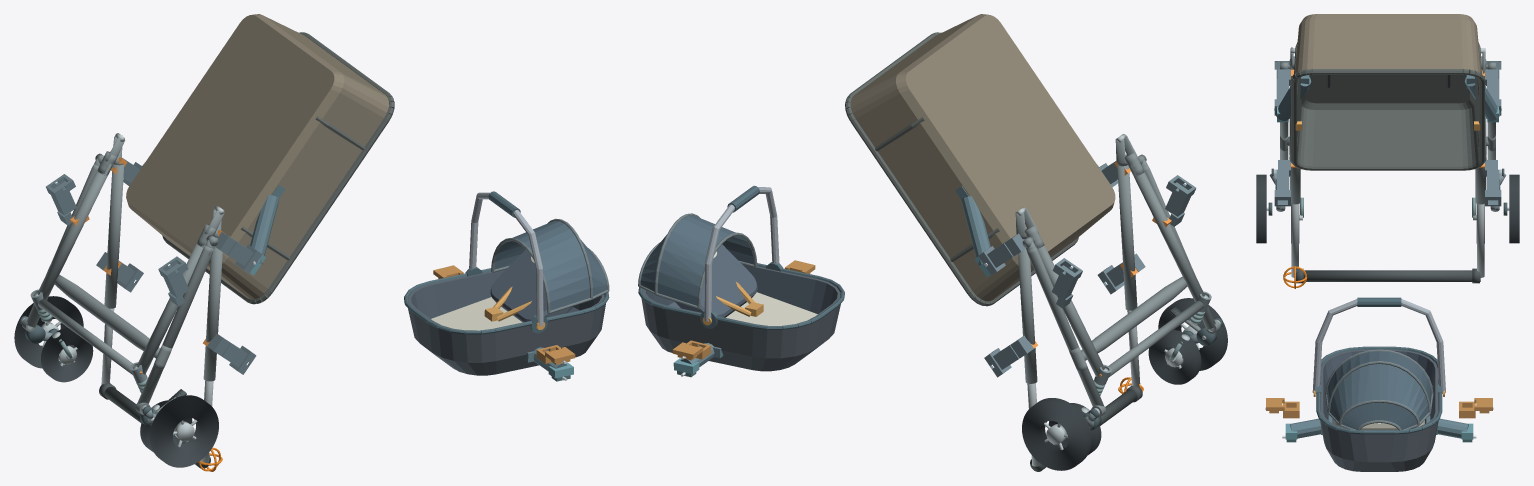
Rendered from D19_w650_state3_wheel_S.glb.
The picture shows the model from 3 angles, left to right: view 1: azimuth 30°, elevation 25°; view 2: azimuth 150°, elevation 25°; view 3: azimuth 270°, elevation 25°; orthographic projection. The views are drawn at different scales.
Parts seen in each view (by area): view 1: D19_Lower, D19_Upper, RL_tire.011, FR_tire.011, main_upper_1.012, main_lower_1.012, V46_rearbar.011, V46_rear_leg_-1.011, main_upper_-1.012, RR_tire.011, main_lower_-1.012, D19_Lower_Mount_M (+8 smaller); view 2: D19_Lower, D19_Upper, RR_tire.011, FL_tire.011, main_upper_-1.012, V46_rearbar.011, main_lower_-1.012, V46_rear_leg_1.011, main_upper_1.012, RL_tire.011, main_lower_1.012, D19_Lower_Mount_M (+8 smaller); view 3: D19_Lower, D19_Upper, round_handle.013, D19_Upper_Mount_H, D19_Lower_Mount_M, RL_tire.011, RR_tire.011, Universal_Cabin_Receiver_H_1, Universal_Cabin_Receiver_H_-1, handle_slider_1.013, D02_WideAdapter_H_1, D02_WideAdapter_H_-1 (+5 smaller).
Part boxes in pixels (box(x1,y1,x2,y2)): D19_Lower: box(126, 14, 394, 304); D19_Upper: box(404, 191, 609, 375); RL_tire.011: box(150, 395, 218, 467); FR_tire.011: box(40, 327, 93, 382); main_upper_1.012: box(104, 164, 123, 308); main_lower_1.012: box(37, 164, 111, 299); V46_rearbar.011: box(54, 275, 160, 358); V46_rear_leg_-1.011: box(137, 245, 213, 403); main_upper_-1.012: box(203, 237, 222, 381); RR_tire.011: box(14, 296, 83, 368); main_lower_-1.012: box(136, 242, 206, 374); D19_Lower_Mount_M: box(142, 163, 285, 275); D19_Lower: box(845, 14, 1115, 306); D19_Upper: box(638, 185, 844, 371); RR_tire.011: box(1022, 398, 1091, 470); FL_tire.011: box(1148, 330, 1201, 384); main_upper_-1.012: box(1117, 165, 1137, 310); V46_rearbar.011: box(1081, 276, 1187, 360); main_lower_-1.012: box(1130, 165, 1204, 301); V46_rear_leg_1.011: box(1026, 247, 1103, 406); main_upper_1.012: box(1018, 239, 1037, 383); RL_tire.011: box(1158, 298, 1227, 370); main_lower_1.012: box(1035, 245, 1104, 376); D19_Lower_Mount_M: box(955, 165, 1099, 276); D19_Lower: box(1291, 14, 1484, 170); D19_Upper: box(1312, 297, 1445, 471); round_handle.013: box(1303, 270, 1480, 281); D19_Upper_Mount_H: box(1282, 415, 1476, 442); D19_Lower_Mount_M: box(1274, 75, 1501, 122); RL_tire.011: box(1256, 174, 1266, 243); RR_tire.011: box(1509, 174, 1519, 243); Universal_Cabin_Receiver_H_1: box(1485, 160, 1501, 206); Universal_Cabin_Receiver_H_-1: box(1274, 160, 1290, 206); handle_slider_1.013: box(1477, 204, 1484, 277); D02_WideAdapter_H_1: box(1459, 398, 1493, 418); D02_WideAdapter_H_-1: box(1265, 398, 1299, 418).
Size of the model in its own units: 1.6 by 1.08 by 0.766.
